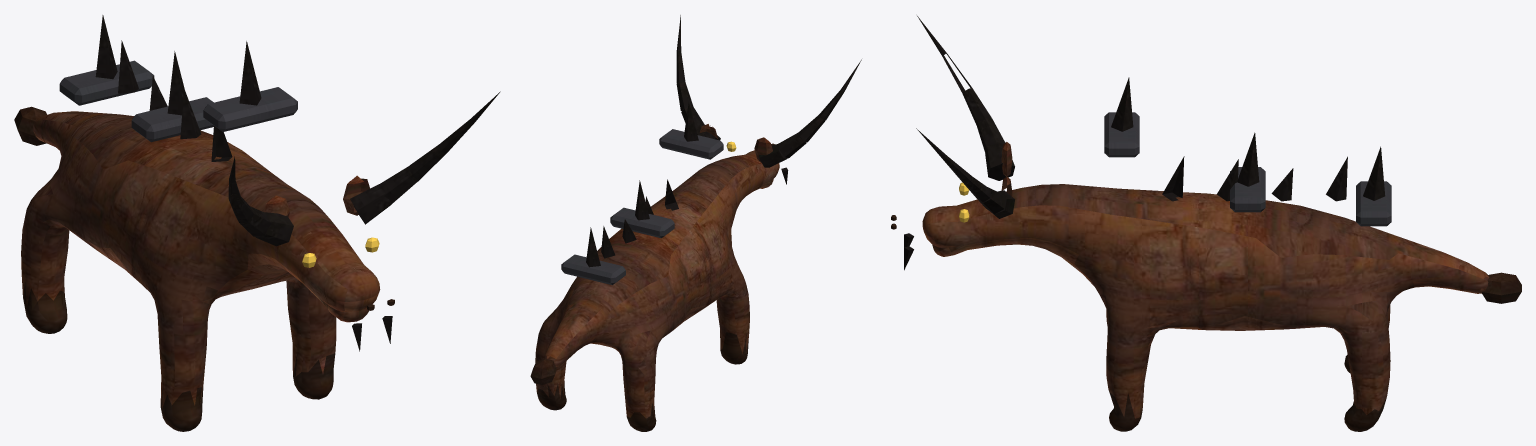
Rendered from boss_01.glb.
The picture shows the model from 3 angles, left to right: view 1: azimuth 30°, elevation 25°; view 2: azimuth 150°, elevation 25°; view 3: azimuth 270°, elevation 25°; orthographic projection. The views are drawn at different scales.
Visible parts, largest first — view 1: boss_01; view 2: boss_01; view 3: boss_01.
Boxes of the visible parts, x1,y1,x2,y2 form: boss_01: (14,15,500,431); boss_01: (530,15,861,431); boss_01: (891,16,1521,431).
Bounding box in the file's own units: 2.05 × 2.77 × 4.79.
Materials: 6 (6 with a texture image).
